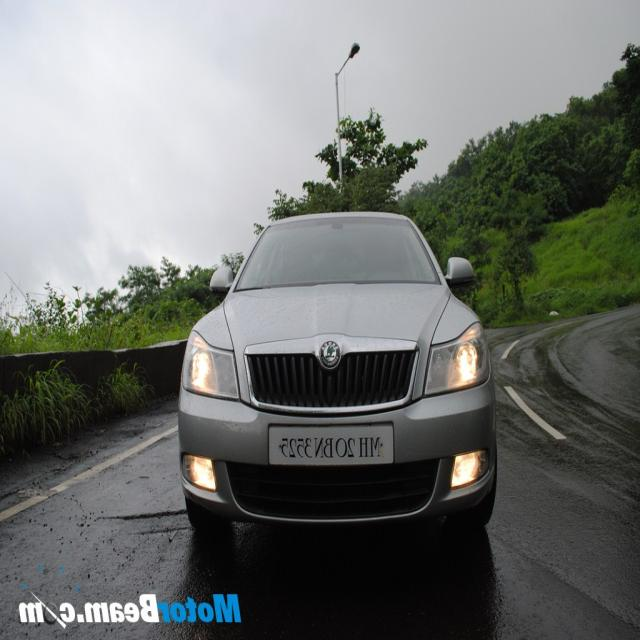number-plate: (264, 426, 399, 470), (254, 429, 384, 448)
